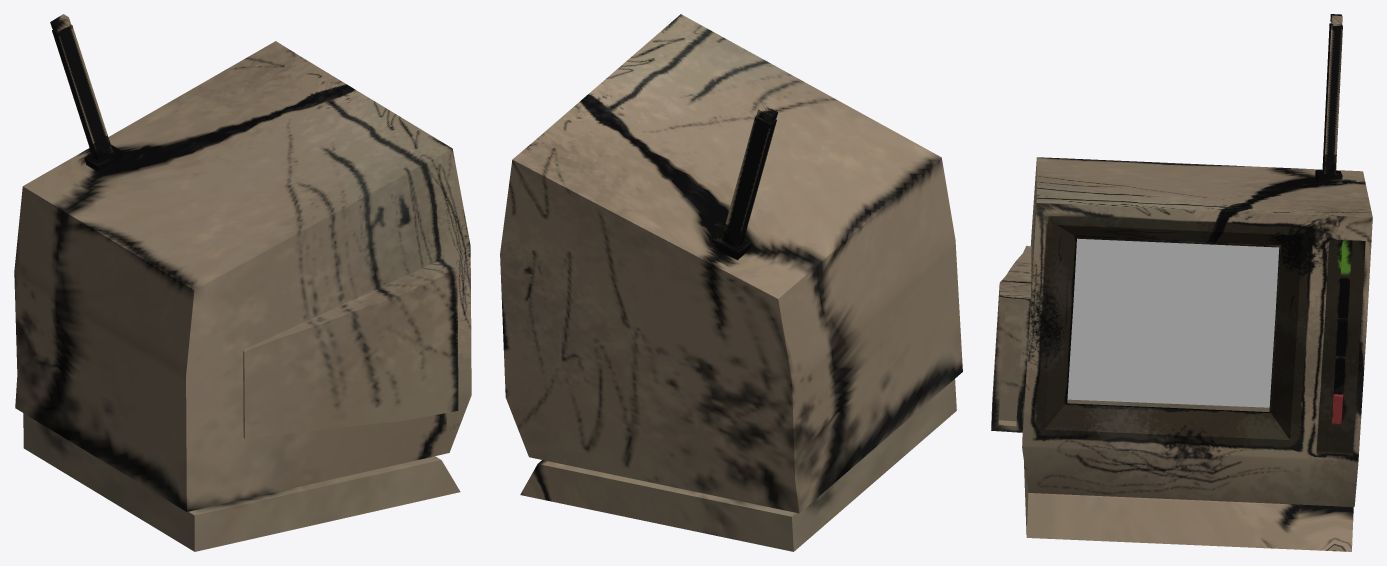
3 views of the same model, side by side, from view 1: azimuth 30°, elevation 25°; view 2: azimuth 150°, elevation 25°; view 3: azimuth 270°, elevation 25° (orthographic). The views are drawn at different scales.
Parts seen in each view (by area): view 1: TV-5; view 2: TV-5; view 3: TV-5, TV-5-Screen.
Boxes of the visible parts, box(x1,y1,x2,y2) form: TV-5: box(14, 14, 471, 551); TV-5: box(500, 14, 962, 551); TV-5: box(991, 14, 1372, 551); TV-5-Screen: box(1067, 238, 1279, 407).
Bounding box in the file's own units: 8.67 × 12.31 × 10.02.
Materials: 1 (1 with a texture image).
